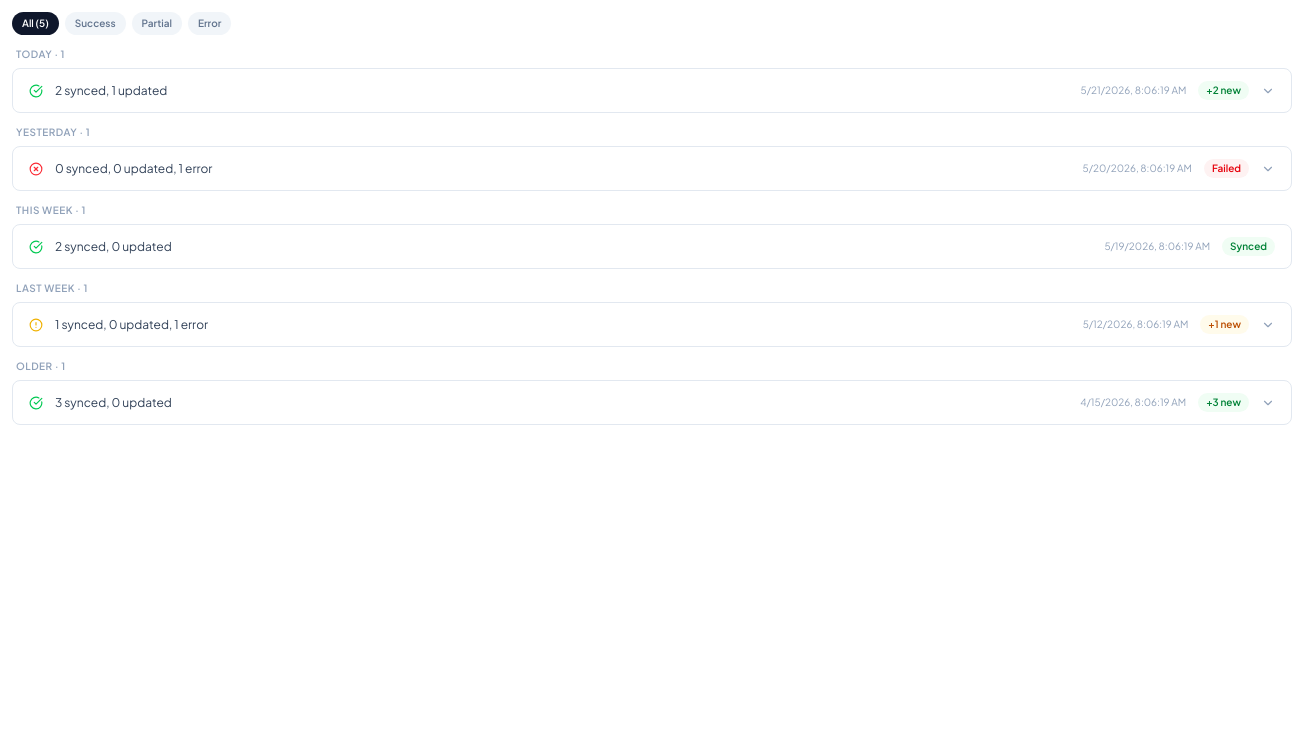
Test: History › expands a row on click, showing synced file names with ▸ prefix
Step 1. Click the list item "2 synced, 1 updated 5/21/2026, 8:06:19 AM +2 new" → (652, 90), box [12,68,1291,113]
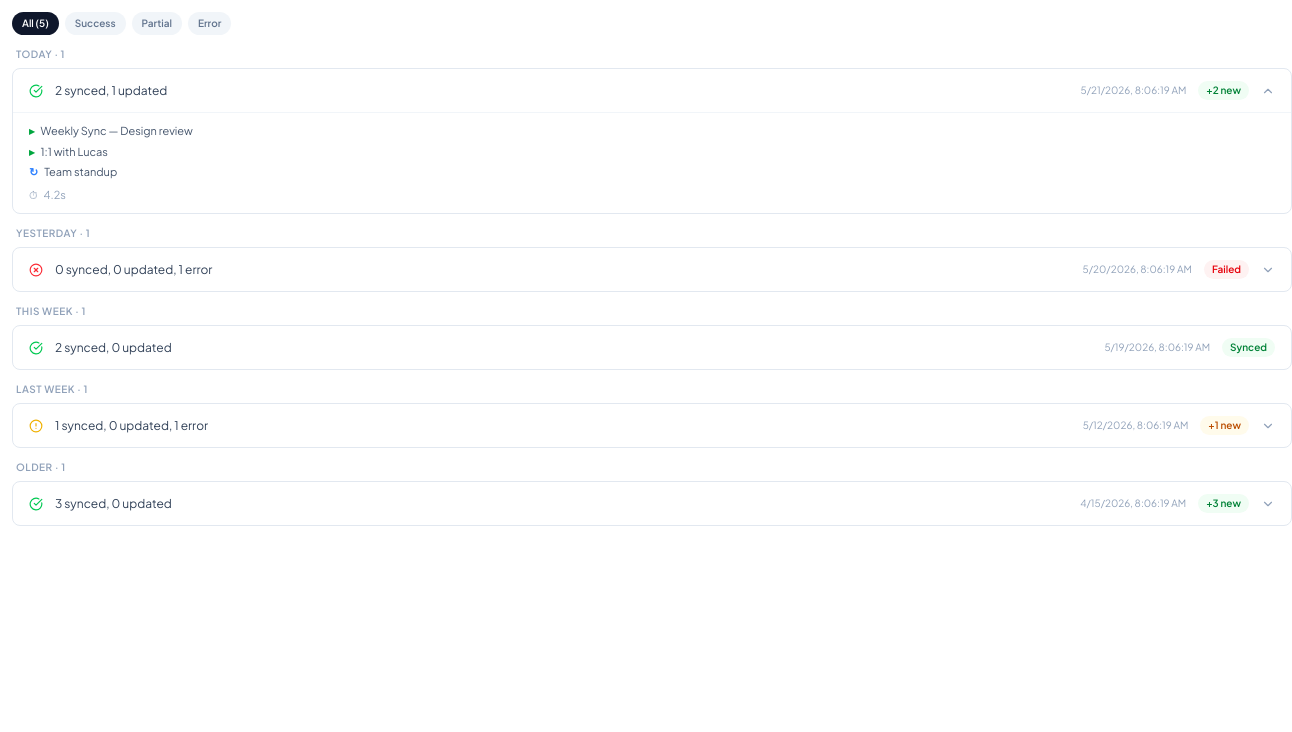
Check: the text "Weekly Sync — Design review" is shown, box [40,124,193,137]
Check: the text "1:1 with Lucas" is shown, box [40,144,108,158]
